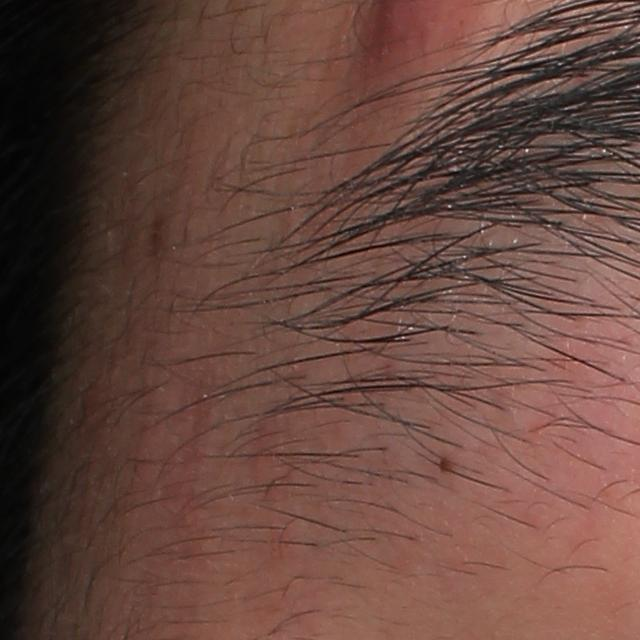nevus: (435, 453, 455, 480)
